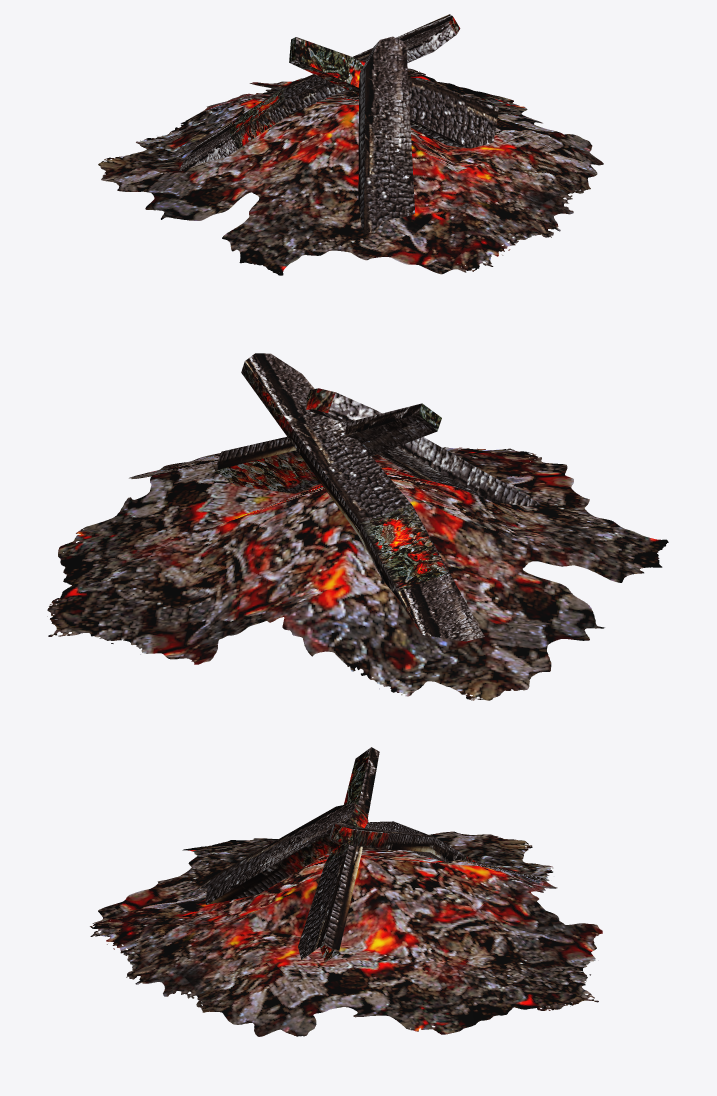
The model's file is burning _embers.FBX.
3 views of the same model, one above another, from view 1: azimuth 30°, elevation 25°; view 2: azimuth 150°, elevation 25°; view 3: azimuth 270°, elevation 25° (orthographic). The views are drawn at different scales.
Parts seen in each view (by area): view 1: Ashes, BurningWood; view 2: Ashes, BurningWood; view 3: Ashes, BurningWood.
Boxes of the visible parts, x1=… form: Ashes: x1=98, y1=68, x2=603, y2=275; BurningWood: x1=179, y1=14, x2=498, y2=234; Ashes: x1=47, y1=447, x2=668, y2=700; BurningWood: x1=215, y1=353, x2=541, y2=641; Ashes: x1=90, y1=831, x2=602, y2=1036; BurningWood: x1=200, y1=747, x2=476, y2=962.
Size of the model in its own units: 13.6 by 3.8 by 13.6.
